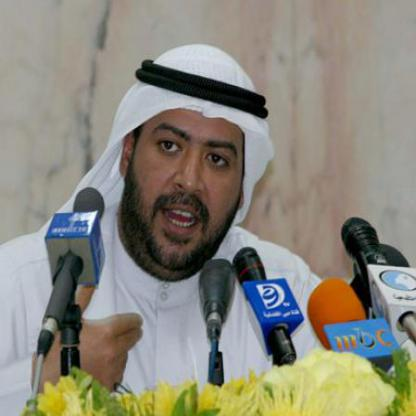face: (135, 46, 251, 275)
